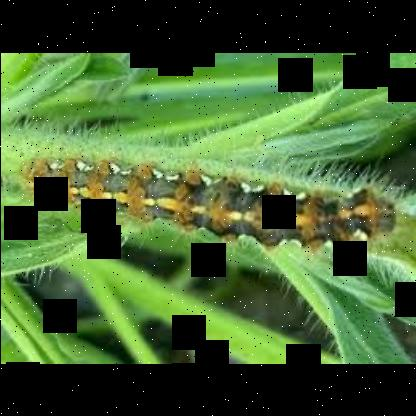oruga: (33, 149, 395, 259)
